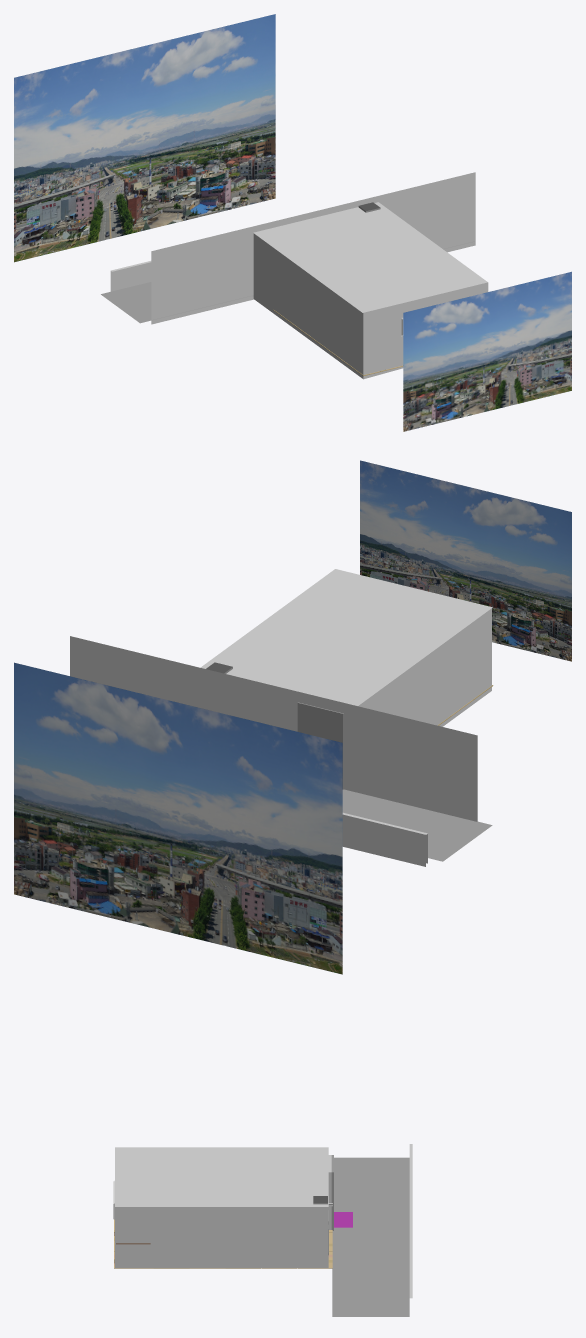
File: MAP_Wave_Player_Room.fbx
3 views of the same model, one above another, from view 1: azimuth 30°, elevation 25°; view 2: azimuth 150°, elevation 25°; view 3: azimuth 270°, elevation 25° (orthographic). The views are drawn at different scales.
Parts seen in each view (by area): view 1: Player_Room_Main; view 2: Player_Room_Main, Player_Room_Door; view 3: Player_Room_Main.
Boxes of the visible parts, bbox=[...] form: Player_Room_Main: bbox=[14, 14, 571, 431]; Player_Room_Main: bbox=[14, 460, 571, 974]; Player_Room_Door: bbox=[297, 702, 343, 789]; Player_Room_Main: bbox=[113, 1144, 412, 1316].
Size of the model in its own units: 2529 by 1315 by 3691.
